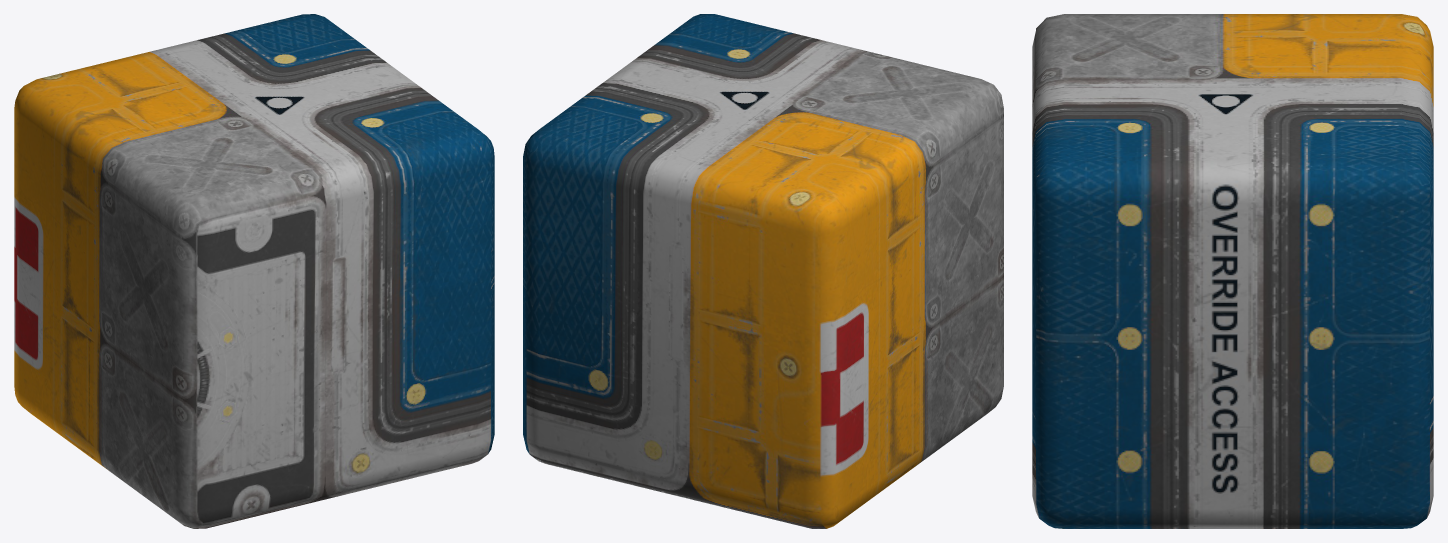
File: toxic_box1.glb
3 renders of one model, left to right at view 1: azimuth 30°, elevation 25°; view 2: azimuth 150°, elevation 25°; view 3: azimuth 270°, elevation 25°, orthographic. The views are drawn at different scales.
Parts seen in each view (by area): view 1: toxic_box1; view 2: toxic_box1; view 3: toxic_box1.
Boxes of the visible parts, box(x1,y1,x2,y2) form: toxic_box1: box(14, 14, 494, 528); toxic_box1: box(523, 14, 1003, 528); toxic_box1: box(1032, 14, 1433, 528).
Bounding box in the file's own units: 1.03 × 1.03 × 1.03.
Materials: 1 (1 with a texture image).
